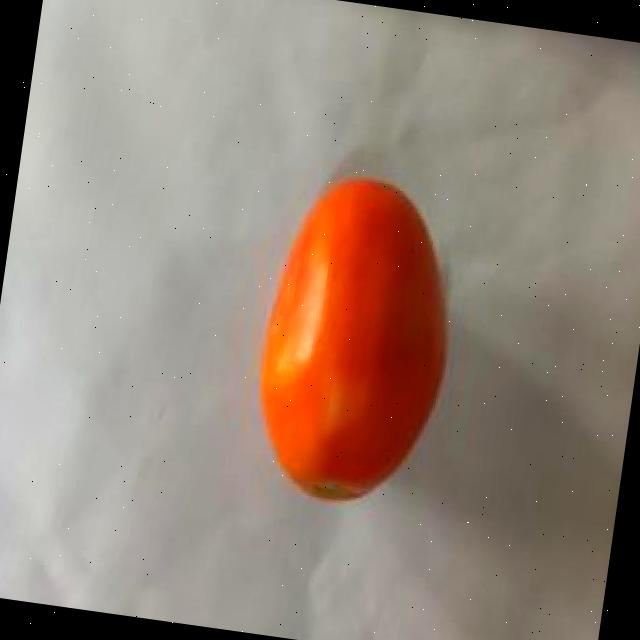tomato: (247, 166, 468, 512)
